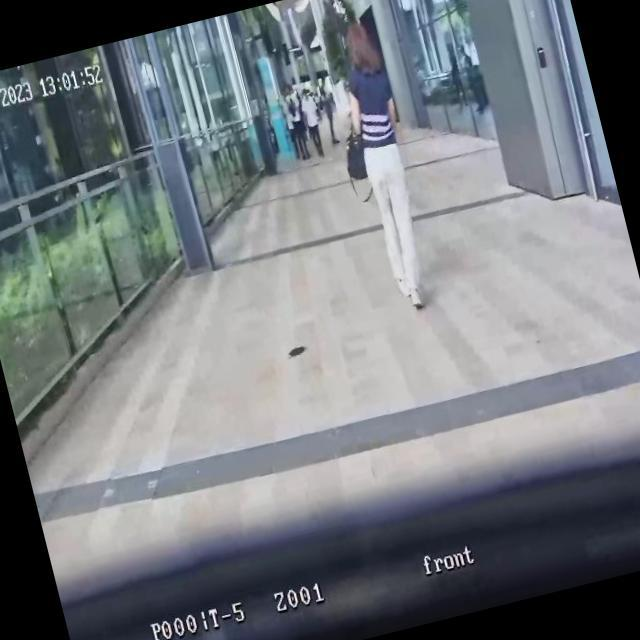person: (327, 14, 446, 315), (296, 87, 330, 160), (284, 90, 314, 162), (316, 84, 344, 147), (278, 90, 302, 162)
